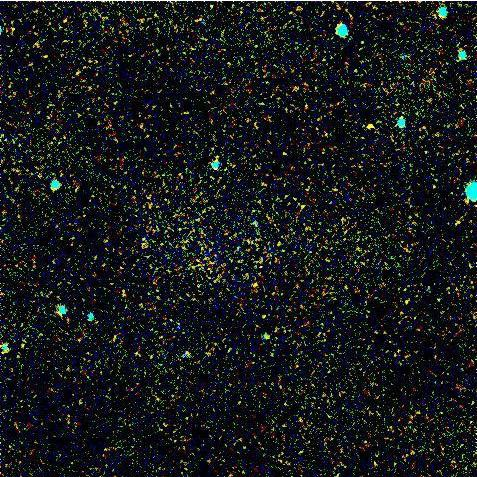star: (238, 269, 268, 299)
